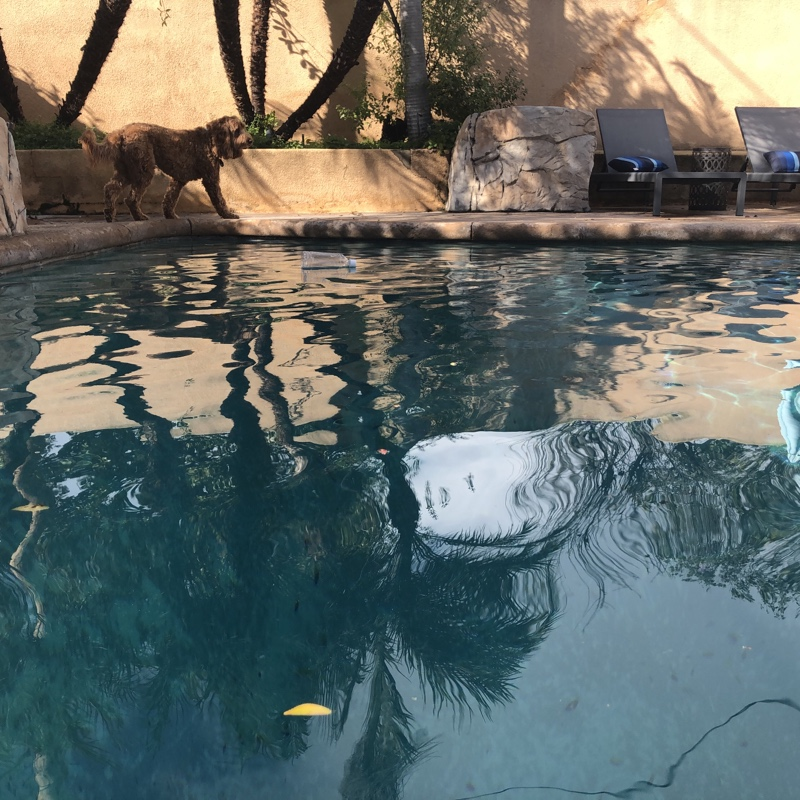Plastic Bottle: (298, 248, 357, 274)
